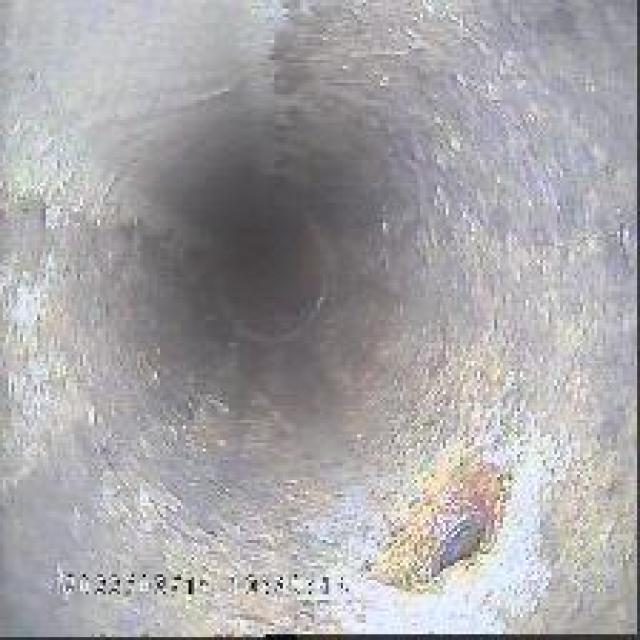ferrule: (383, 472, 511, 592)
